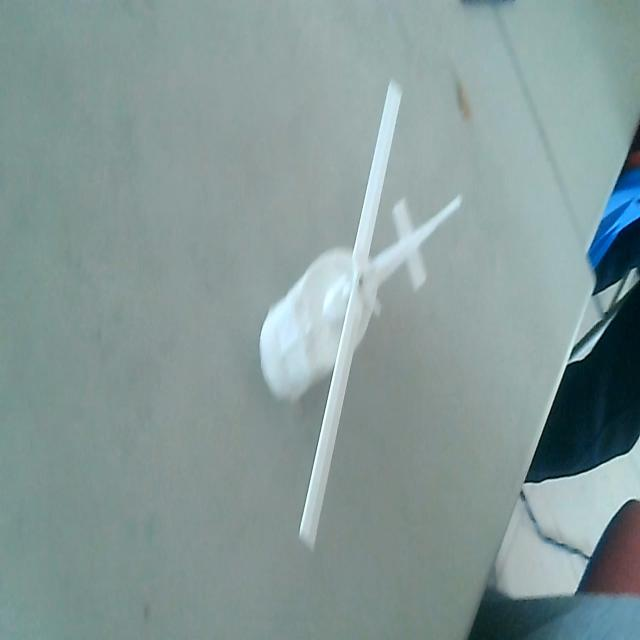Helicopter: (256, 84, 463, 560)
